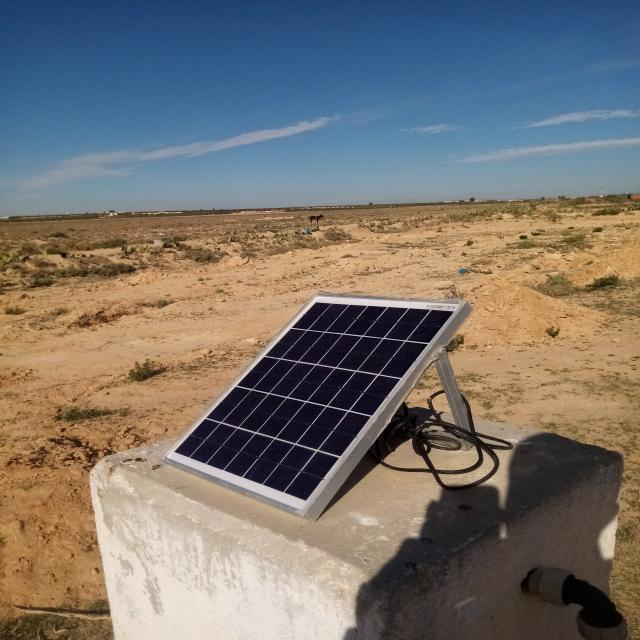no faulty: (161, 292, 468, 516)
